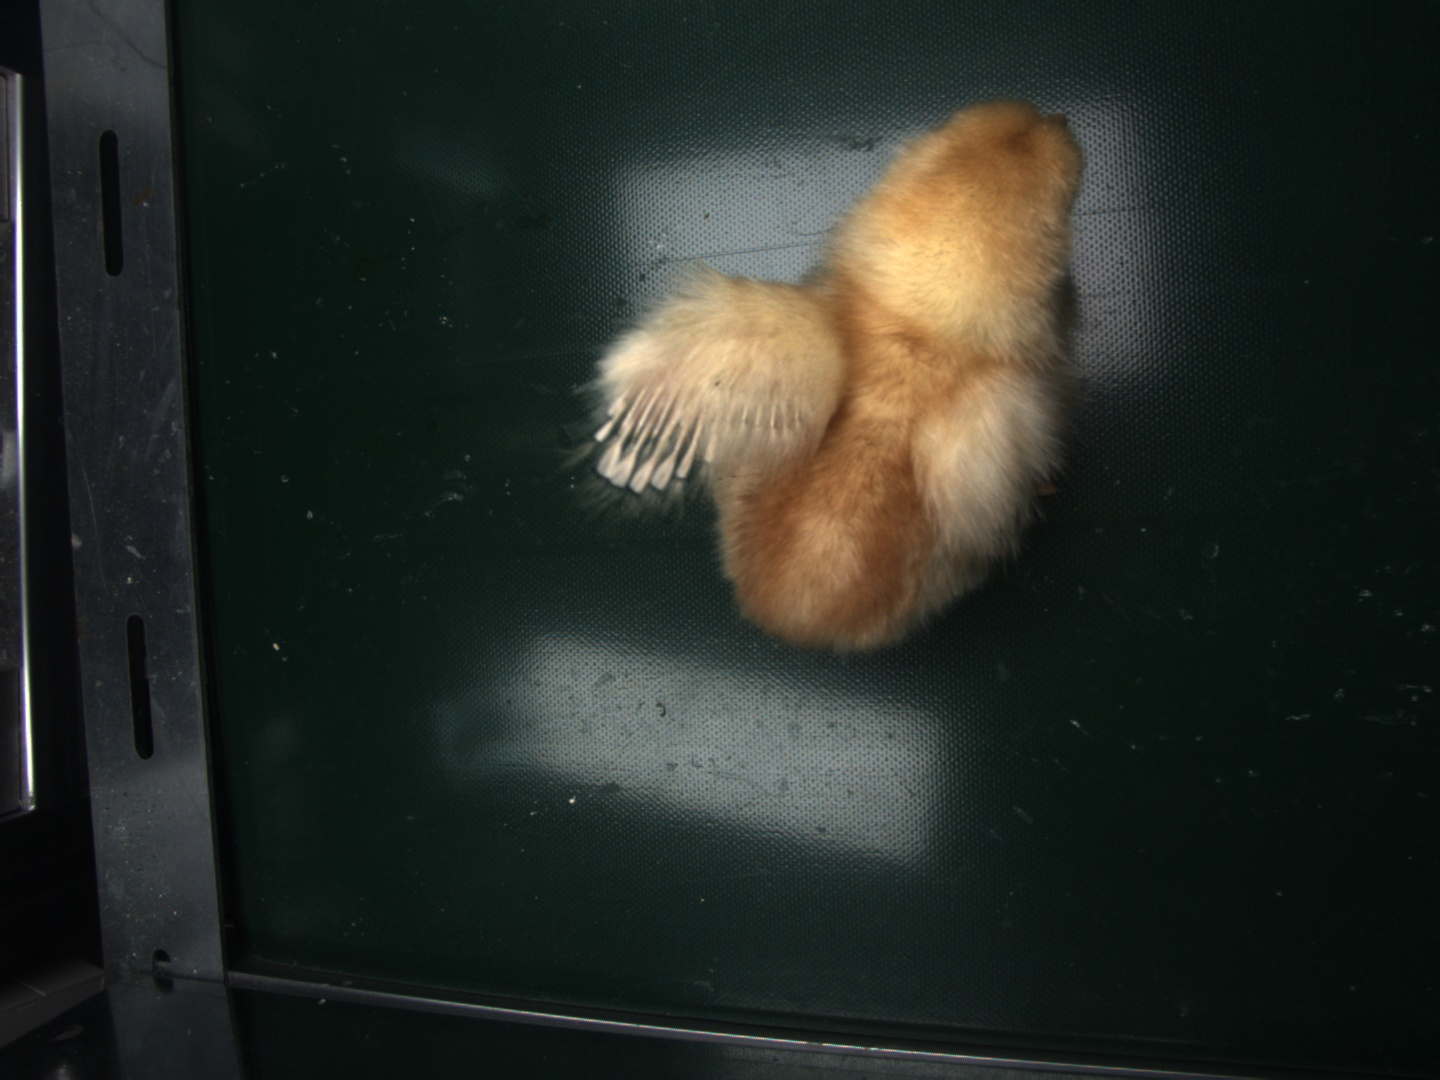female: (595, 385, 709, 489)
